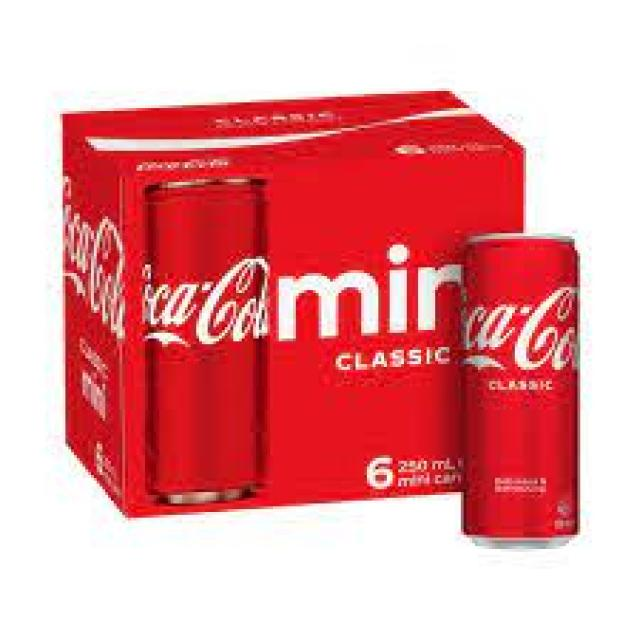Cans: (452, 225, 589, 554)
